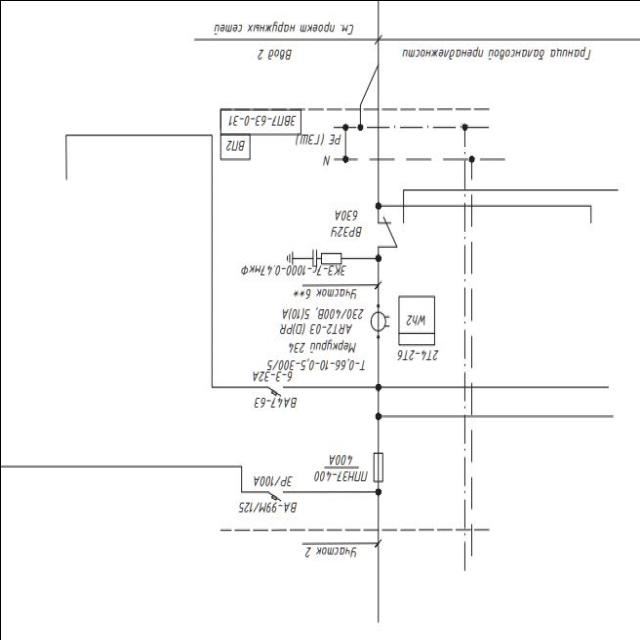-: (277, 306, 366, 354), (236, 470, 298, 516), (250, 368, 299, 410), (261, 354, 367, 372), (312, 452, 370, 484), (228, 113, 298, 128), (330, 208, 362, 240)
FU: (372, 450, 384, 482)
QF: (264, 380, 288, 398), (265, 487, 285, 502)
TT: (368, 308, 391, 332)
WH: (396, 292, 434, 346)
switch: (378, 214, 406, 250)
